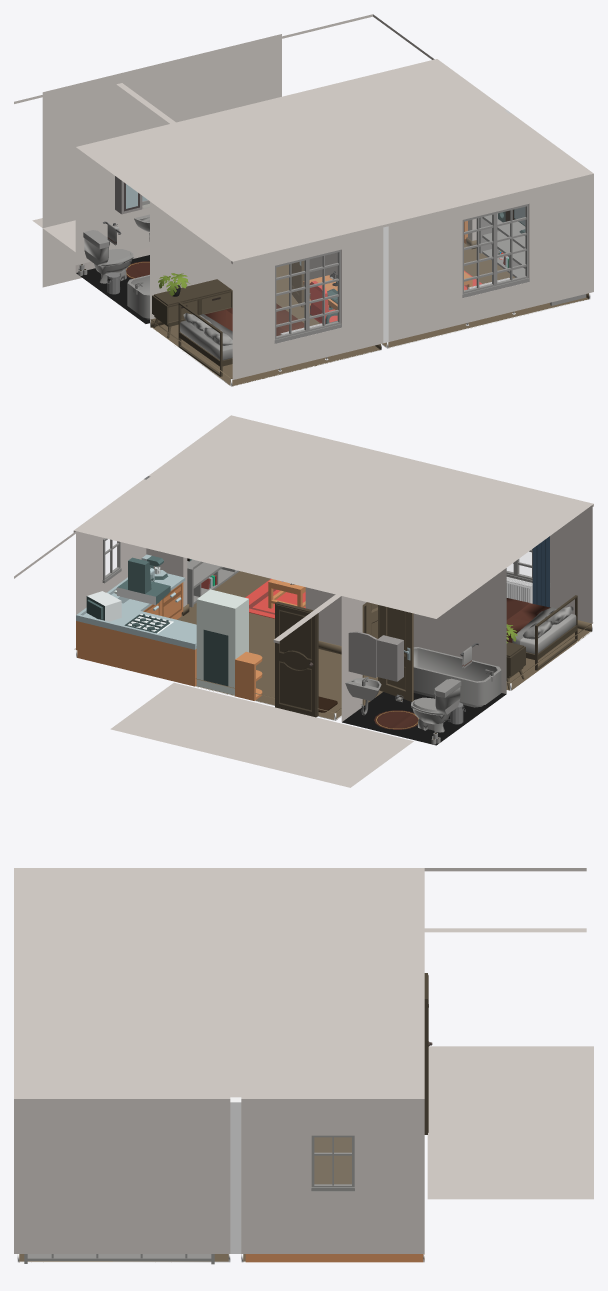
Rendered from 2roomflat.glb.
The picture shows the model from 3 angles, top to bottom: view 1: azimuth 30°, elevation 25°; view 2: azimuth 150°, elevation 25°; view 3: azimuth 270°, elevation 25°; orthographic projection. The views are drawn at different scales.
Parts seen in each view (by area): view 1: ceiling, southwall, Plane.001, Window_Large2, Window_Large2.001, wall5, floor, northwall, Bed_King, Drawer_1, Shelf_Small1, Bathroom_Toilet (+7 smaller); view 2: ceiling, Plane, wall5, floor, southwall, kitchenFridge, Door_4, Bathroom_Bathtub, Bed_King, eastwall, kitchenStove, bathfloor (+23 smaller); view 3: ceiling, eastwall, Plane, Window_Small2, floor, southwall, Shelf_Small1, Door_4, kitchenCabinetCornerInner.
Boxes of the visible parts, x1,y1,x2,y2 form: ceiling: (14, 14, 589, 260); southwall: (231, 172, 593, 379); Plane.001: (42, 34, 281, 287); Window_Large2: (462, 204, 529, 297); Window_Large2.001: (274, 249, 341, 343); wall5: (150, 203, 232, 319); floor: (152, 243, 588, 386); northwall: (75, 149, 149, 265); Bed_King: (178, 302, 304, 376); Drawer_1: (152, 279, 232, 338); Shelf_Small1: (479, 213, 586, 305); Bathroom_Toilet: (83, 230, 133, 283); ceiling: (14, 417, 592, 643); Plane: (110, 682, 413, 787); wall5: (413, 569, 506, 686); floor: (177, 571, 590, 719); southwall: (230, 415, 593, 623); kitchenFridge: (196, 589, 248, 695); Door_4: (275, 601, 318, 717); Bathroom_Bathtub: (413, 647, 501, 707); Bed_King: (506, 595, 577, 670); eastwall: (73, 416, 231, 649); kitchenStove: (117, 611, 179, 676); bathfloor: (342, 692, 506, 745); ceiling: (17, 868, 586, 1097); eastwall: (17, 1097, 424, 1253); Plane: (427, 1046, 593, 1199); Window_Small2: (311, 1135, 354, 1191); floor: (19, 1137, 351, 1262); southwall: (14, 868, 17, 1253); Shelf_Small1: (24, 1254, 214, 1264); Door_4: (424, 973, 432, 1134); kitchenCabinetCornerInner: (362, 1254, 424, 1262).
Size of the model in its own units: 15.32 by 7.91 by 16.25.
Materials: 168 (4 with a texture image).
